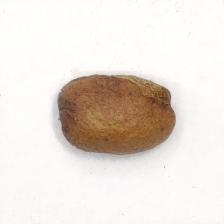NG: (111, 72, 175, 114)
